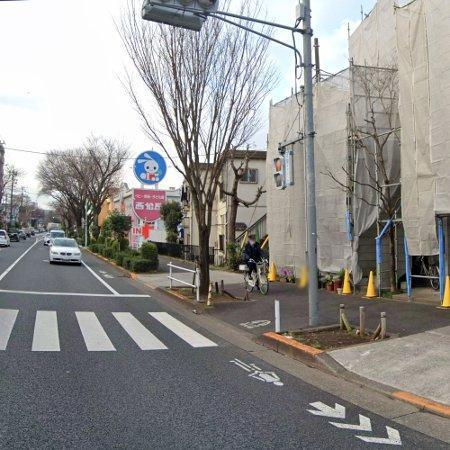crosswalk: (6, 304, 226, 354)
